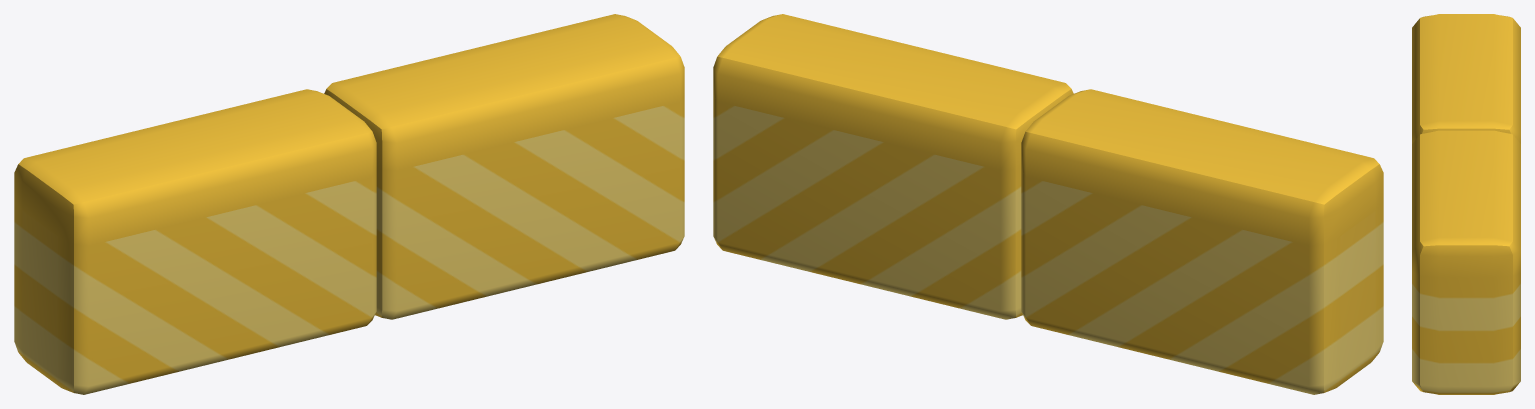
Rendered from Obstacle5.fbx.
3 renders of one model, left to right at view 1: azimuth 30°, elevation 25°; view 2: azimuth 150°, elevation 25°; view 3: azimuth 270°, elevation 25°, orthographic. The views are drawn at different scales.
Visible parts, largest first — view 1: ObstacleCube01, ObstacleCube02; view 2: ObstacleCube01, ObstacleCube02; view 3: ObstacleCube02, ObstacleCube01.
Boxes of the visible parts, <box> form: ObstacleCube01: <box>14,89,376,394</box>; ObstacleCube02: <box>324,14,684,319</box>; ObstacleCube01: <box>1021,89,1383,394</box>; ObstacleCube02: <box>713,14,1073,319</box>; ObstacleCube02: <box>1412,130,1520,394</box>; ObstacleCube01: <box>1412,14,1520,143</box>.
Bounding box in the file's own units: 364 × 114 × 71.58.
